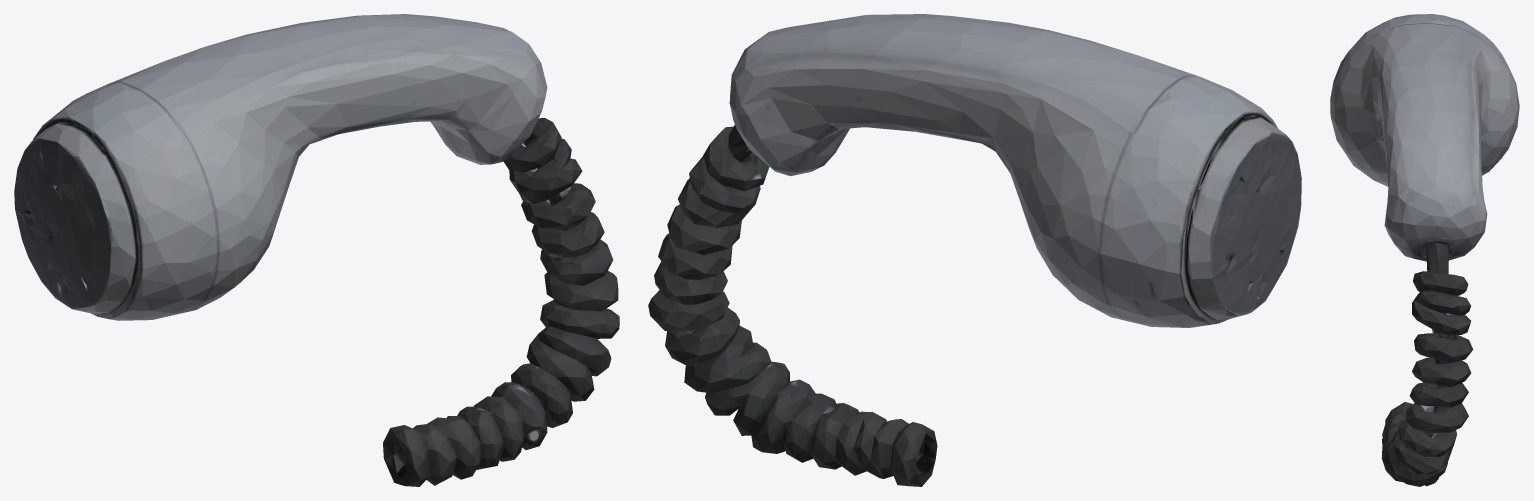
Rendered from handset.glb.
3 renders of one model, left to right at view 1: azimuth 30°, elevation 25°; view 2: azimuth 150°, elevation 25°; view 3: azimuth 270°, elevation 25°, orthographic. The views are drawn at different scales.
Visible parts, largest first — view 1: handset; view 2: handset; view 3: handset.
Part boxes in pixels (box(x1,y1,x2,y2)): handset: box(14, 14, 619, 486); handset: box(648, 14, 1301, 486); handset: box(1330, 14, 1519, 486).
Size of the model in its own units: 0.34 by 0.2623 by 0.1325.
Materials: 1 (1 with a texture image).
